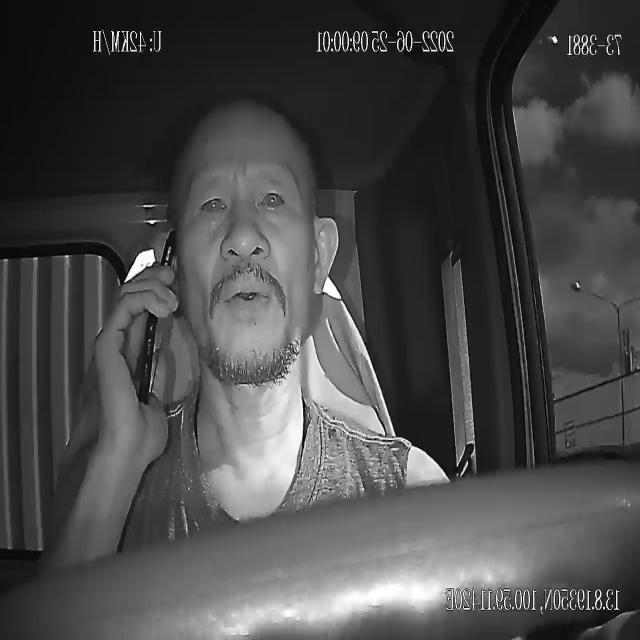phone: (138, 228, 183, 406)
